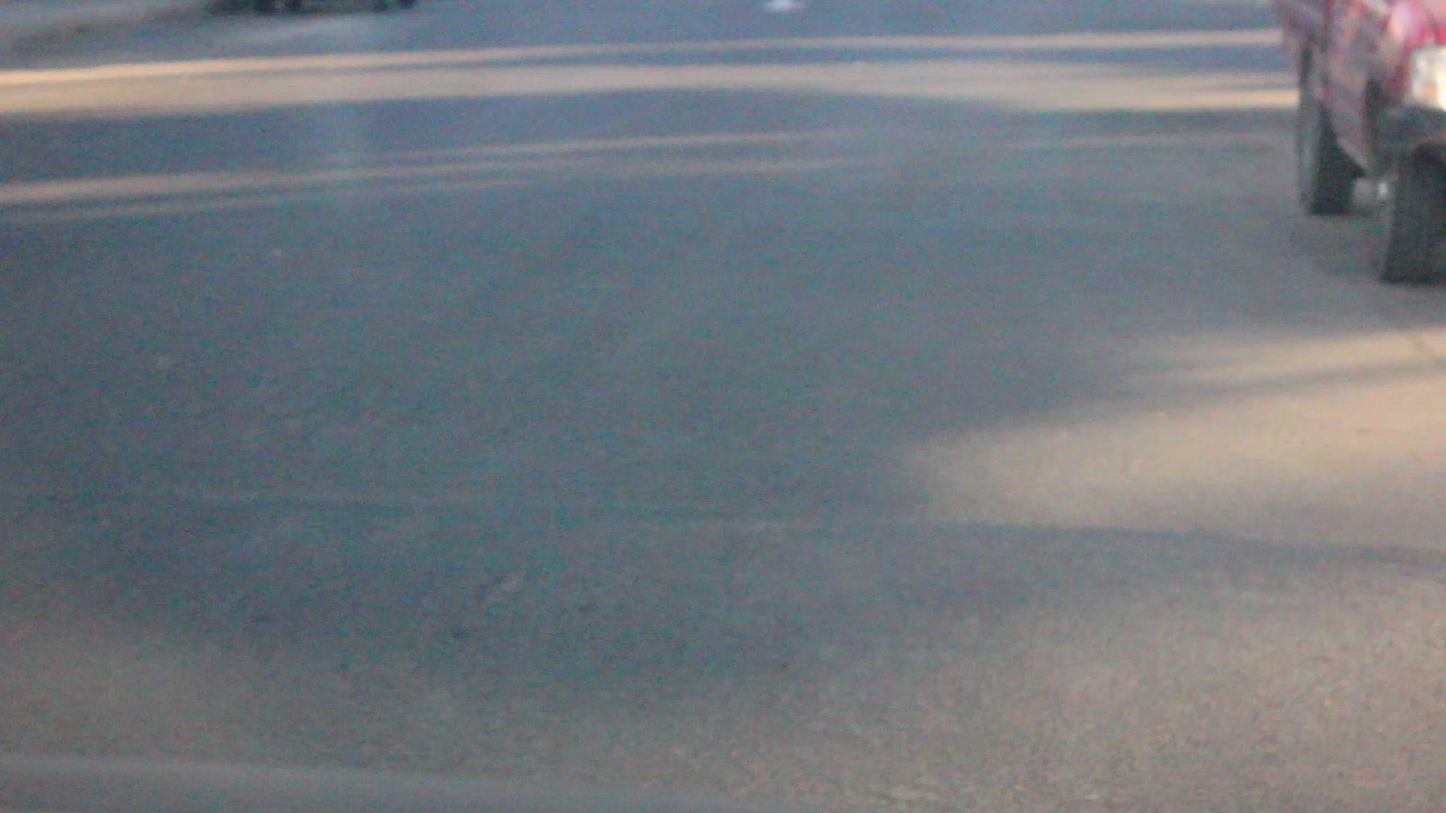Bump: (0, 493, 1445, 812)
